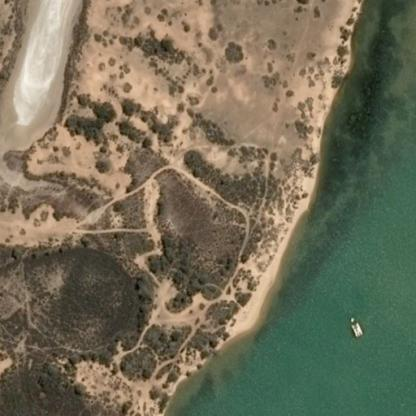ship: (351, 322, 362, 337)
